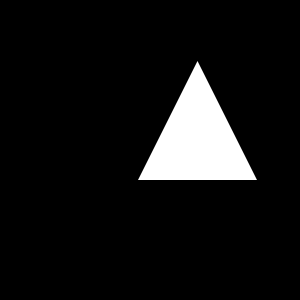triangle: (138, 61, 257, 180)
